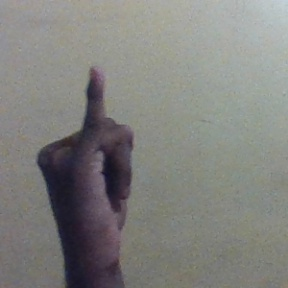I: (29, 65, 145, 266)
